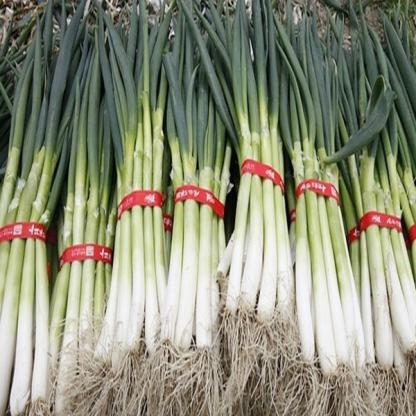green onion: (92, 0, 202, 377), (154, 0, 246, 363), (50, 0, 127, 403), (214, 0, 296, 354), (0, 0, 62, 414), (354, 0, 416, 384), (288, 0, 350, 373)
